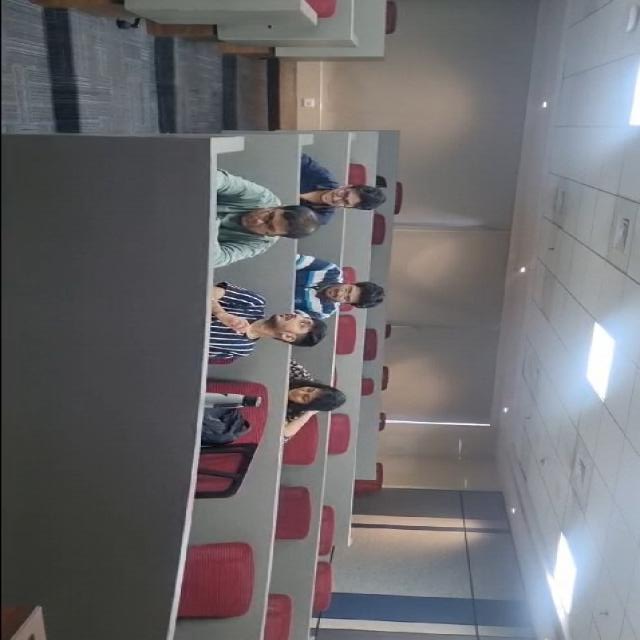cheating: (299, 310, 359, 433), (358, 282, 444, 363), (162, 248, 224, 333), (258, 252, 316, 342)
non-cheating: (177, 325, 268, 431)
